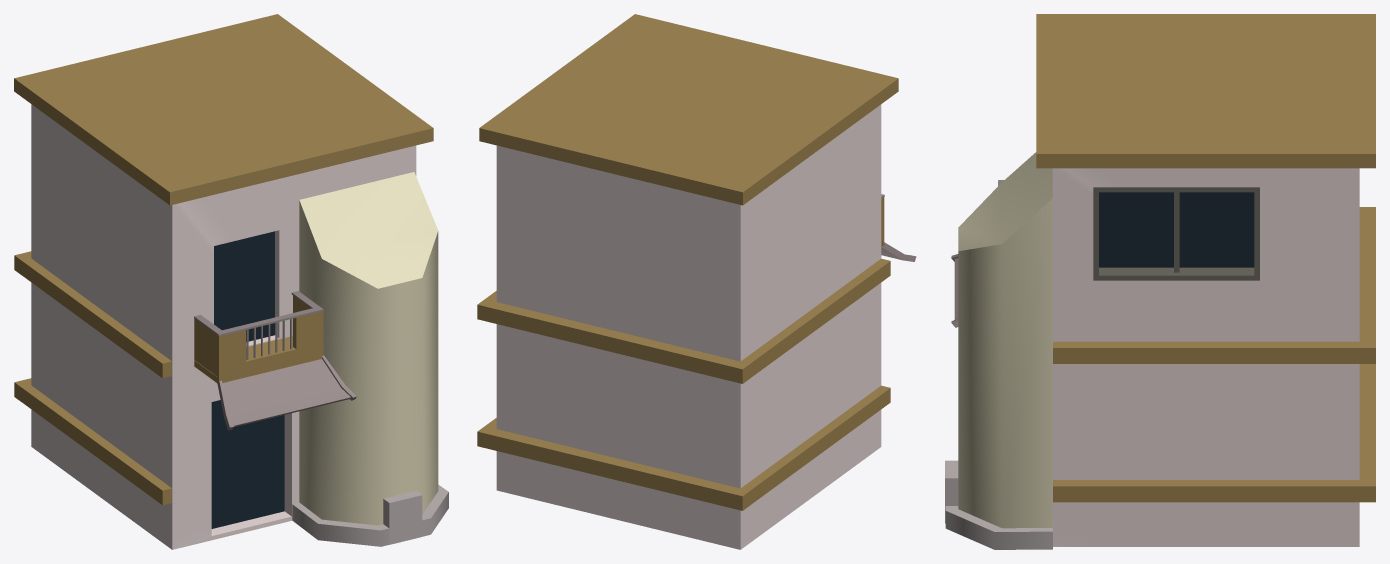
File: CountryHouse05.fbx
3 renders of one model, left to right at view 1: azimuth 30°, elevation 25°; view 2: azimuth 150°, elevation 25°; view 3: azimuth 270°, elevation 25°, orthographic. The views are drawn at different scales.
Visible parts, largest first — view 1: CountryHouse05; view 2: CountryHouse05; view 3: CountryHouse05.
Part boxes in pixels (x1,y1,x2,y2): CountryHouse05: (14,14,448,549); CountryHouse05: (477,14,916,549); CountryHouse05: (945,14,1375,549).
Bounding box in the file's own units: 65.28 × 84.21 × 85.87.
